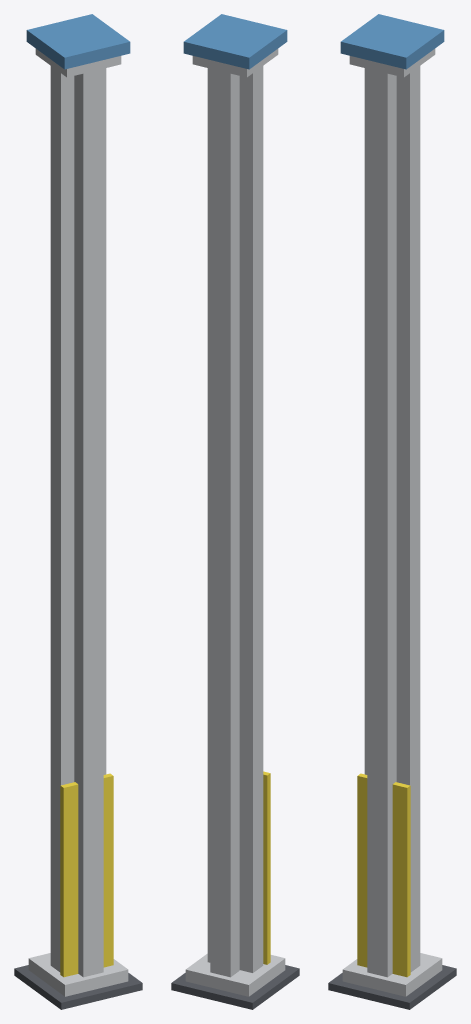
File: hall-steel-column.glb
The picture shows the model from 3 angles, left to right: view 1: azimuth 30°, elevation 25°; view 2: azimuth 150°, elevation 25°; view 3: azimuth 330°, elevation 25°; orthographic projection.
Visible parts, largest first — view 1: hall-steel-column; view 2: hall-steel-column; view 3: hall-steel-column.
Part boxes in pixels (x1,y1,x2,y2): hall-steel-column: (14, 14, 142, 1009); hall-steel-column: (171, 14, 299, 1009); hall-steel-column: (328, 14, 456, 1009).
Size of the model in its own units: 0.72 by 8 by 0.72.
